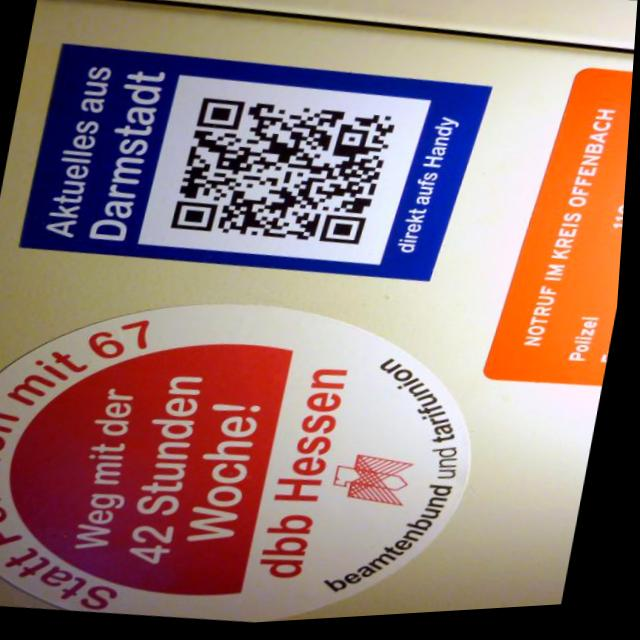qrcode: (173, 90, 402, 259)
